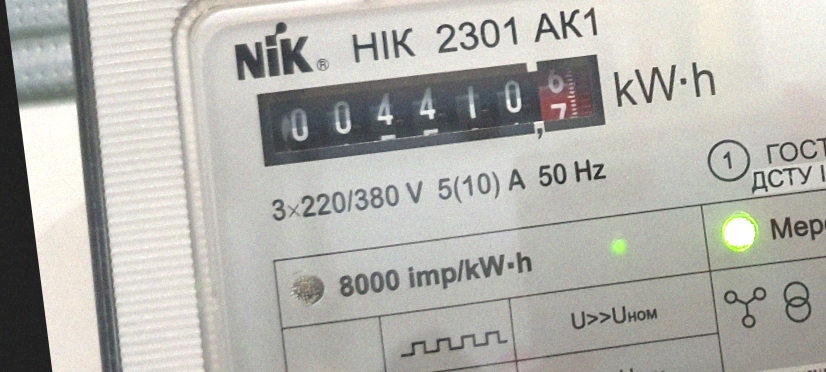0: (285, 103, 311, 143), (500, 77, 524, 115), (330, 96, 352, 136)
1: (461, 82, 479, 121)
4: (370, 87, 396, 128), (413, 83, 439, 124)
6: (546, 66, 566, 94)
7: (548, 99, 569, 121)
screen: (242, 36, 619, 181)
